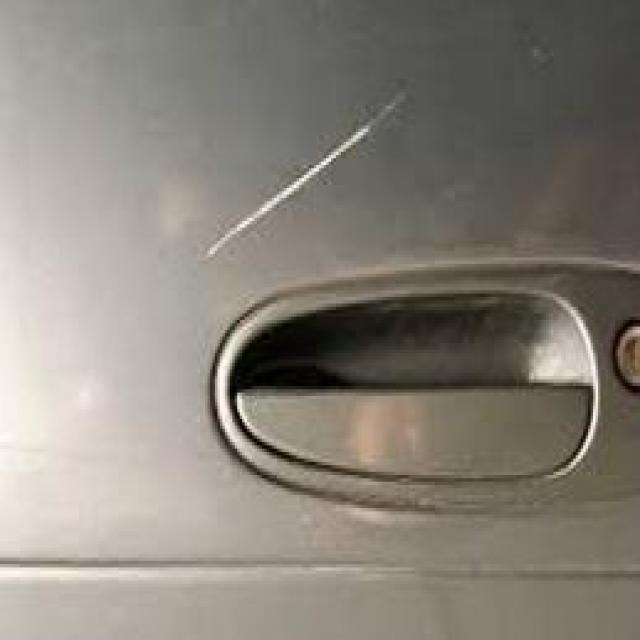scratch: (137, 59, 461, 314)
